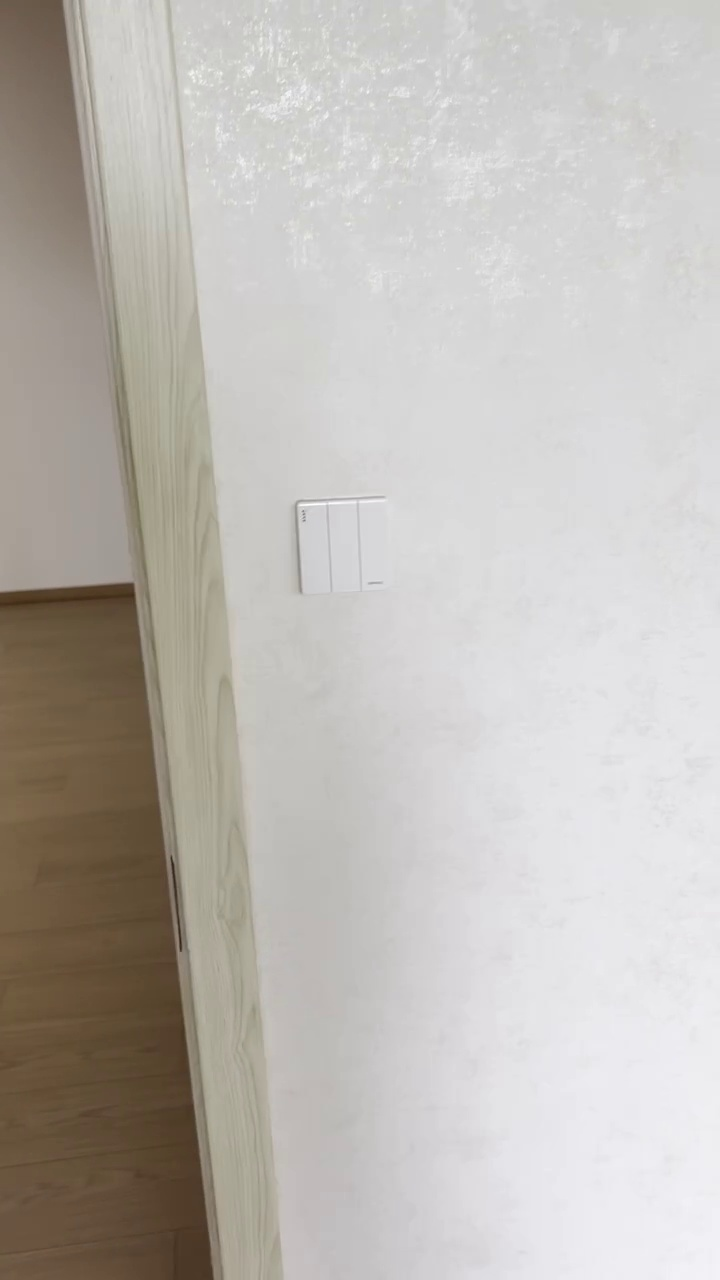button: (293, 491, 401, 608)
